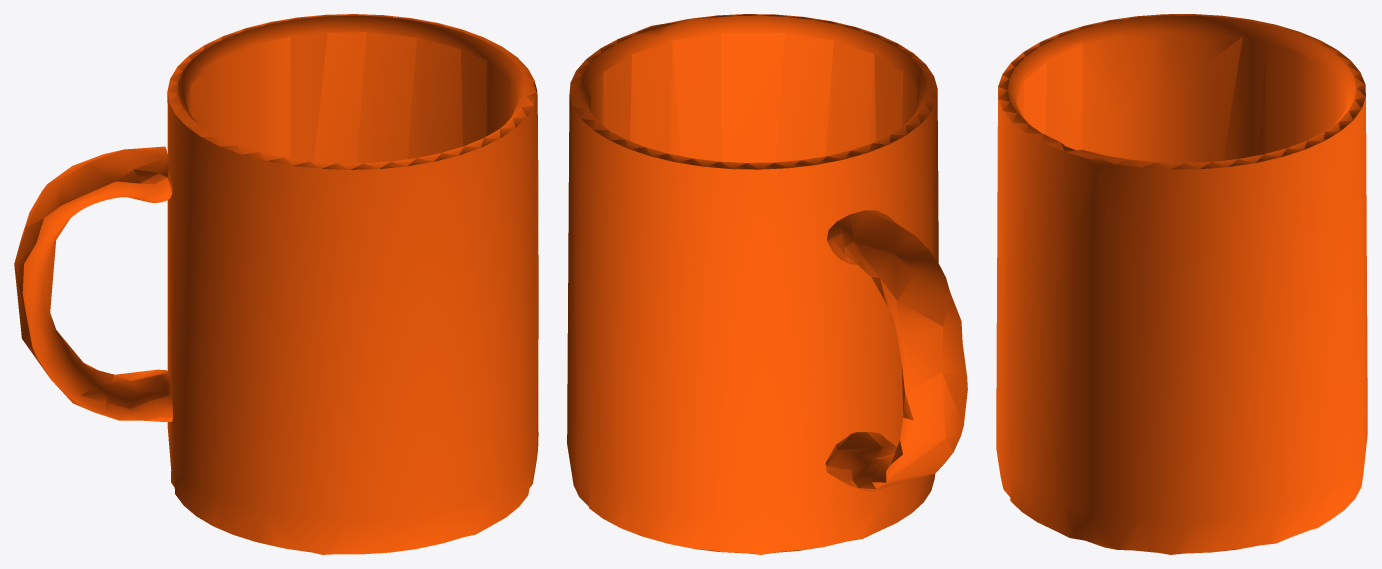
The model's file is cup.fbx.
The picture shows the model from 3 angles, left to right: view 1: azimuth 30°, elevation 25°; view 2: azimuth 150°, elevation 25°; view 3: azimuth 270°, elevation 25°; orthographic projection.
Visible parts, largest first — view 1: cup; view 2: cup; view 3: cup.
Boxes of the visible parts, left/top/right/bottom form: cup: left=14, top=14, right=538, bottom=554; cup: left=567, top=14, right=967, bottom=554; cup: left=996, top=14, right=1367, bottom=554.
Bounding box in the file's own units: 12.07 × 10.5 × 8.98.
